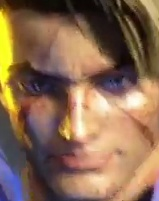kevin: (10, 4, 158, 200)
